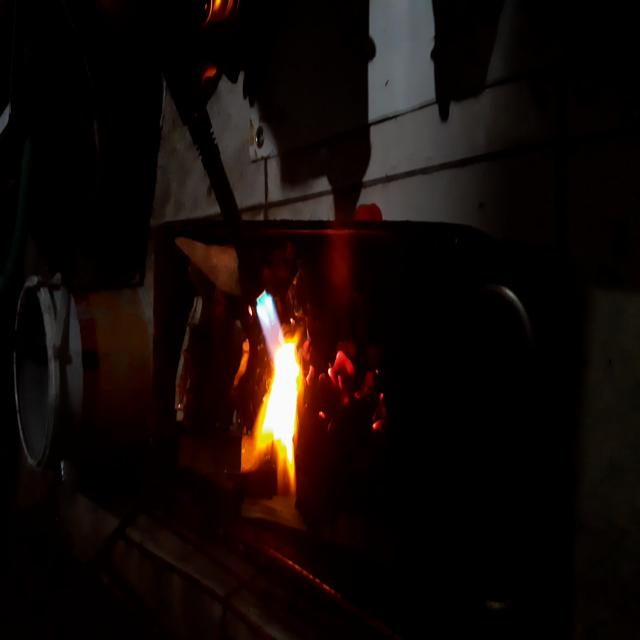Fire: (239, 281, 314, 496), (319, 323, 390, 458)
